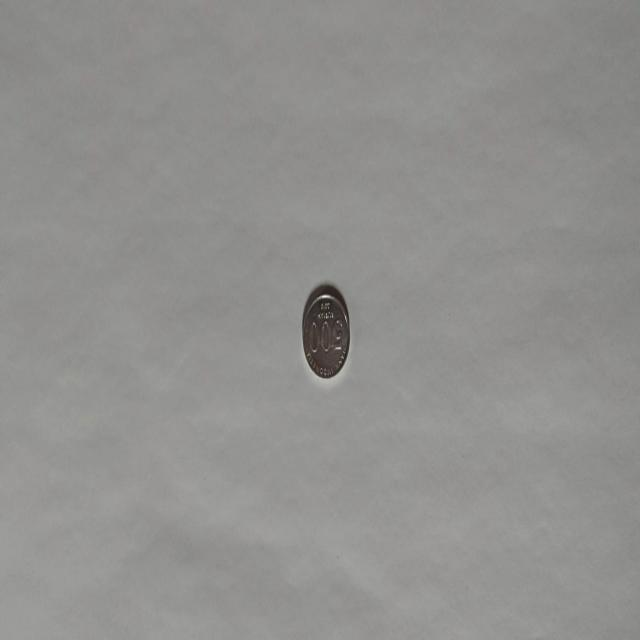lima ratus rupiah: (301, 284, 351, 379)
